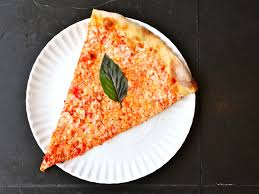pizza: (40, 15, 196, 168)
